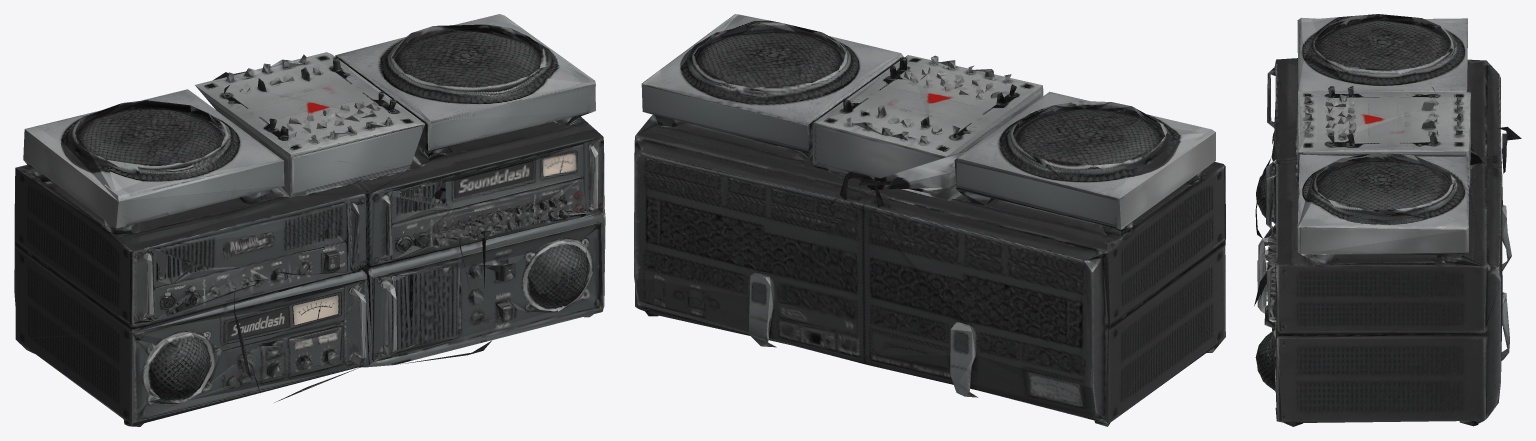
Rendered from dj_booth.glb.
The picture shows the model from 3 angles, left to right: view 1: azimuth 30°, elevation 25°; view 2: azimuth 150°, elevation 25°; view 3: azimuth 270°, elevation 25°; orthographic projection. The views are drawn at different scales.
Parts seen in each view (by area): view 1: output_unwrapped; view 2: output_unwrapped; view 3: output_unwrapped.
Boxes of the visible parts, x1=… form: output_unwrapped: x1=14, y1=14, x2=605, y2=426; output_unwrapped: x1=634, y1=14, x2=1225, y2=426; output_unwrapped: x1=1254, y1=14, x2=1521, y2=426.
Size of the model in its own units: 1.89 by 0.9089 by 1.02.
Materials: 1 (1 with a texture image).
